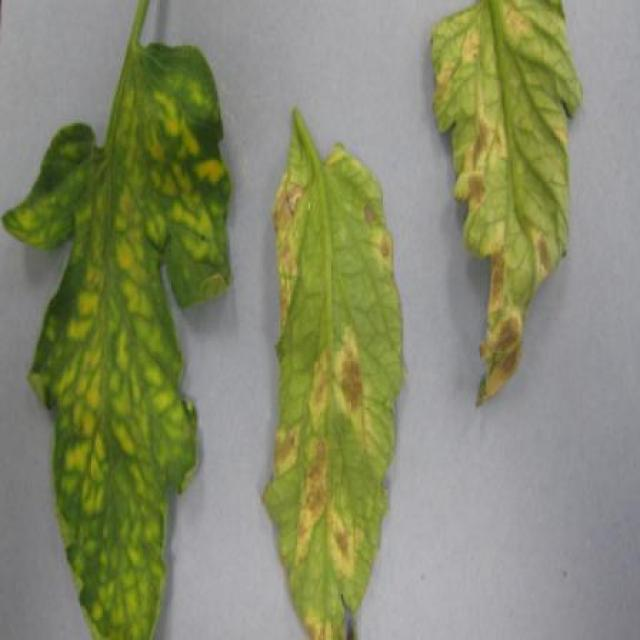Leaf Mold: (258, 132, 406, 639), (427, 0, 584, 406)
